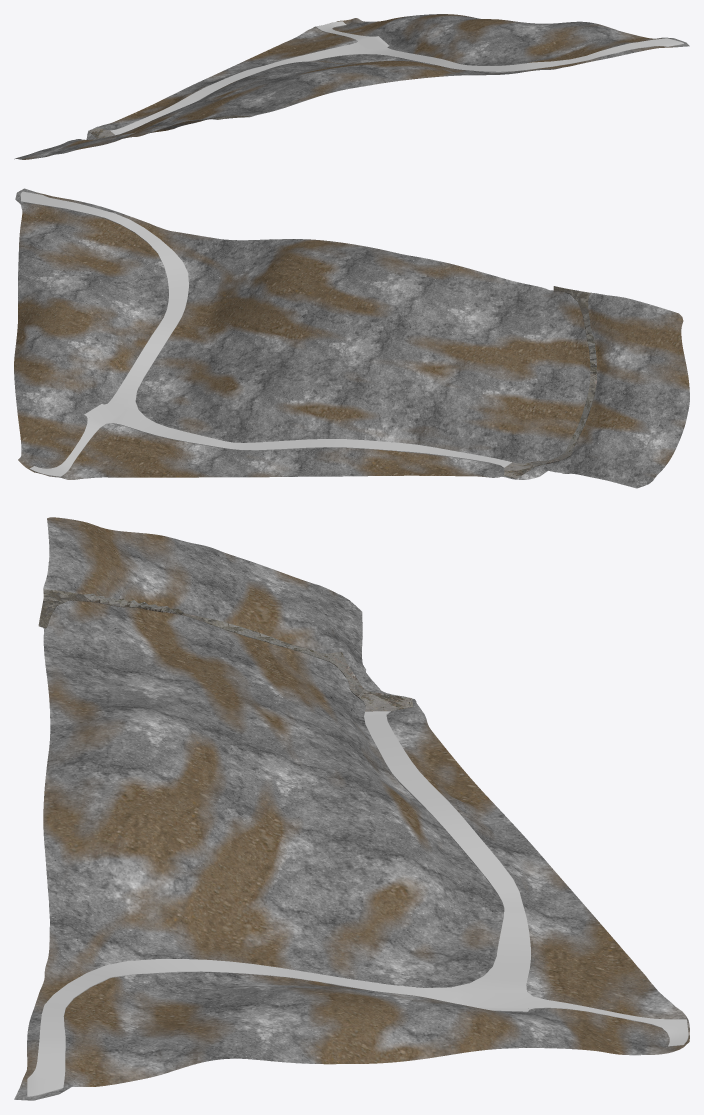
The model's file is Terrain_V1.fbx.
3 views of the same model, one above another, from view 1: azimuth 30°, elevation 25°; view 2: azimuth 150°, elevation 25°; view 3: azimuth 270°, elevation 25° (orthographic). The views are drawn at different scales.
Visible parts, largest first — view 1: terreno, camino_1; view 2: terreno, camino_1; view 3: terreno, camino_1.
Part boxes in pixels (x1,y1,x2,y2): terreno: (14,14,689,159); camino_1: (89,21,683,140); terreno: (14,188,689,488); camino_1: (20,191,596,478); terreno: (14,517,689,1100); camino_1: (27,589,688,1097).
Bounding box in the file's own units: 14225 × 2240 × 7185.
